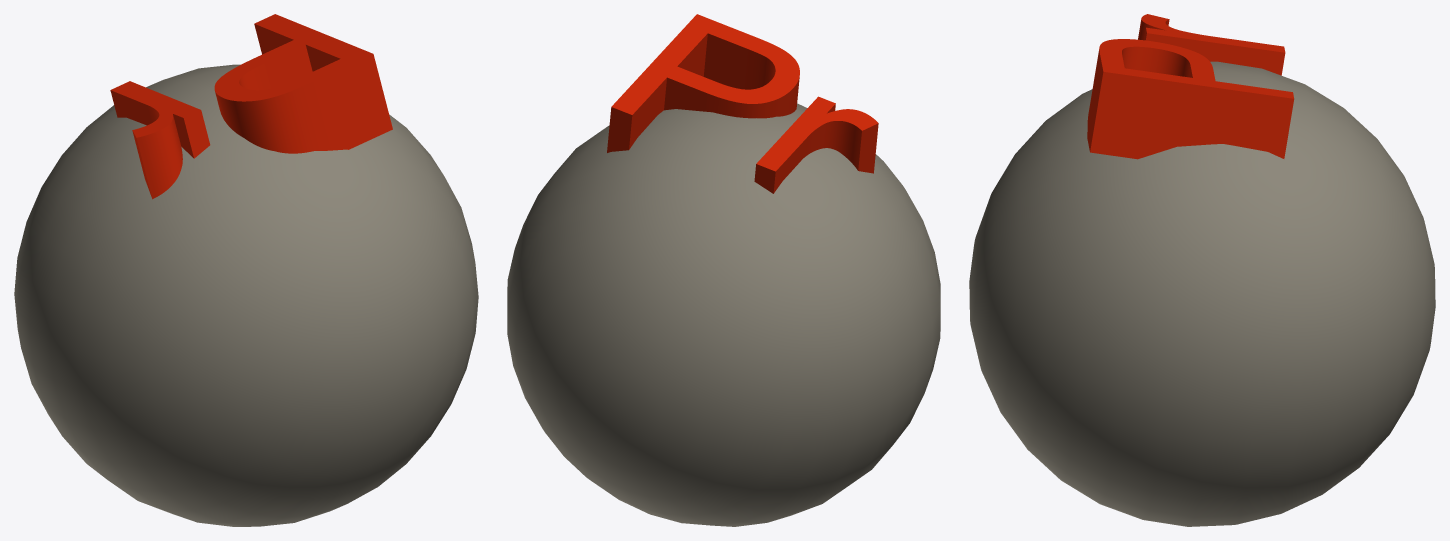
The picture shows the model from 3 angles, left to right: view 1: azimuth 30°, elevation 25°; view 2: azimuth 150°, elevation 25°; view 3: azimuth 270°, elevation 25°; orthographic projection. The views are drawn at different scales.
Visible parts, largest first — view 1: Pr; view 2: Pr; view 3: Pr.
Part boxes in pixels (box(x1,y1,x2,y2)): Pr: box(14, 14, 478, 526); Pr: box(507, 14, 940, 526); Pr: box(969, 14, 1435, 526).
Size of the model in its own units: 38.69 by 43.12 by 38.6.
